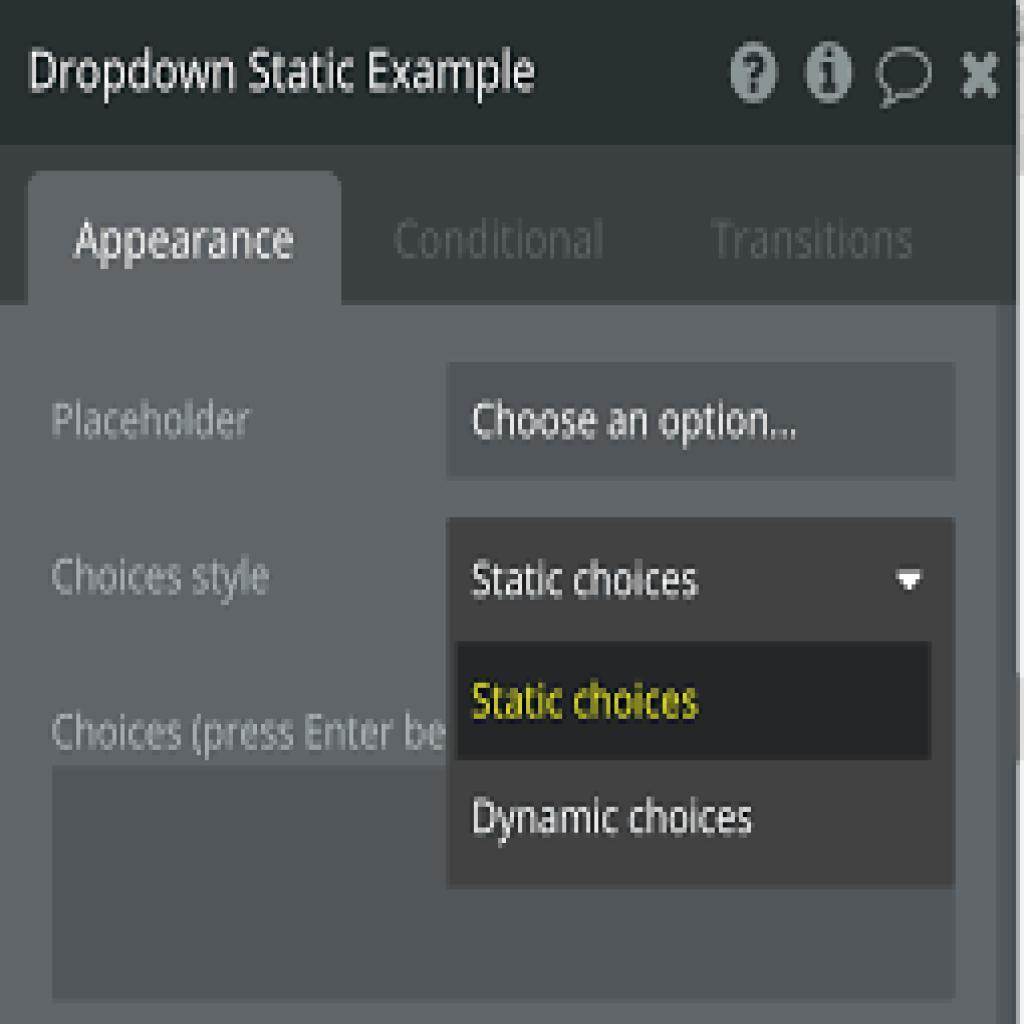dropdown: (450, 522, 955, 635)
icon: (862, 35, 933, 109), (729, 34, 781, 104), (954, 45, 1008, 106), (805, 35, 849, 99)
input: (452, 362, 957, 480)
label: (48, 548, 276, 612), (47, 391, 257, 452)
